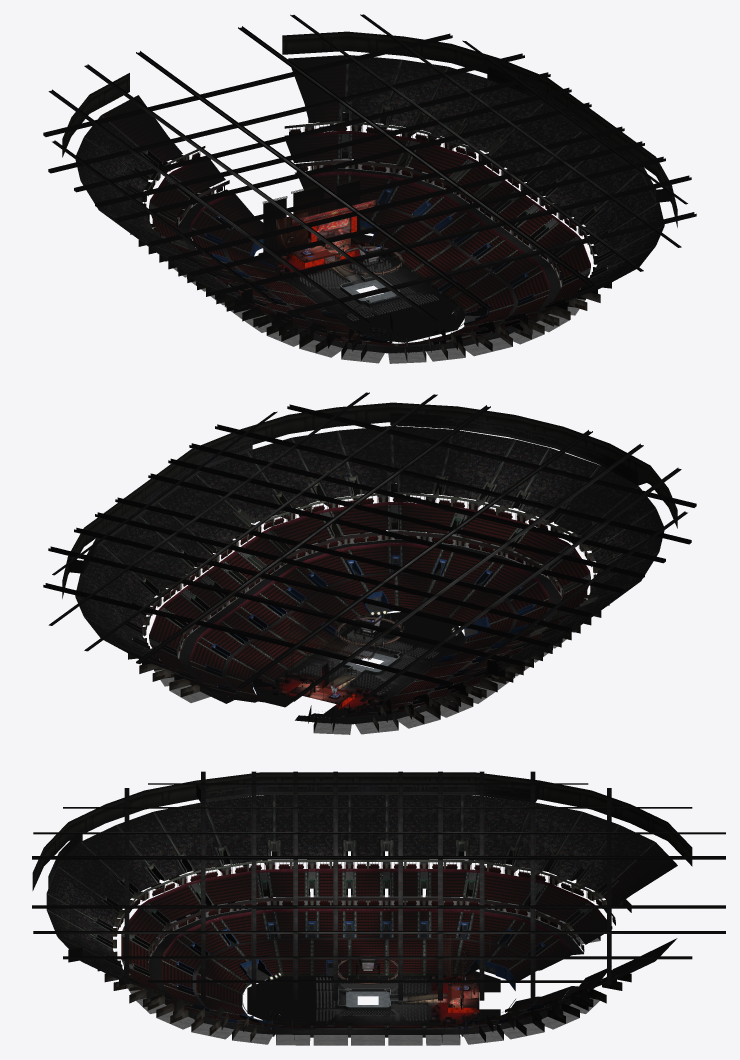
File: raw_arena.glb
3 renders of one model, top to bottom at view 1: azimuth 30°, elevation 25°; view 2: azimuth 150°, elevation 25°; view 3: azimuth 270°, elevation 25°, orthographic.
Parts seen in each view (by area): view 1: Stands, MoveCamOnly_Stands, Floor, Stage, RingsideSeats, Titantron, EventOnly_Stands, Ramp; view 2: Stands, MoveCamOnly_Stands, Floor, Stage, RingsideSeats, EventOnly_Stands, Ramp; view 3: Stands, MoveCamOnly_Stands, Floor, RingsideSeats, Stage, EventOnly_Stands, Ramp, FloorMats, Barricade.
Boxes of the visible parts, <box> form: Stands: <box>62,31,677,363</box>; MoveCamOnly_Stands: <box>43,14,696,323</box>; Floor: <box>258,235,465,342</box>; Stage: <box>262,178,460,337</box>; RingsideSeats: <box>299,258,438,321</box>; Titantron: <box>291,199,376,253</box>; EventOnly_Stands: <box>181,160,558,280</box>; Ramp: <box>291,246,359,281</box>; Stands: <box>62,402,677,734</box>; MoveCamOnly_Stands: <box>43,392,696,701</box>; Floor: <box>254,612,465,715</box>; Stage: <box>262,610,460,713</box>; RingsideSeats: <box>300,630,438,693</box>; EventOnly_Stands: <box>181,531,558,651</box>; Ramp: <box>288,672,359,704</box>; Stands: <box>32,772,692,1045</box>; MoveCamOnly_Stands: <box>32,771,725,1000</box>; Floor: <box>247,971,500,1027</box>; RingsideSeats: <box>316,977,428,1021</box>; Stage: <box>268,934,490,1025</box>; EventOnly_Stands: <box>153,897,580,952</box>; Ramp: <box>397,983,479,1012</box>; FloorMats: <box>346,991,389,1006</box>; Barricade: <box>337,988,398,1010</box>.
Bounding box in the file's own units: 189 × 49.31 × 226.
98 materials, 98 textured.
